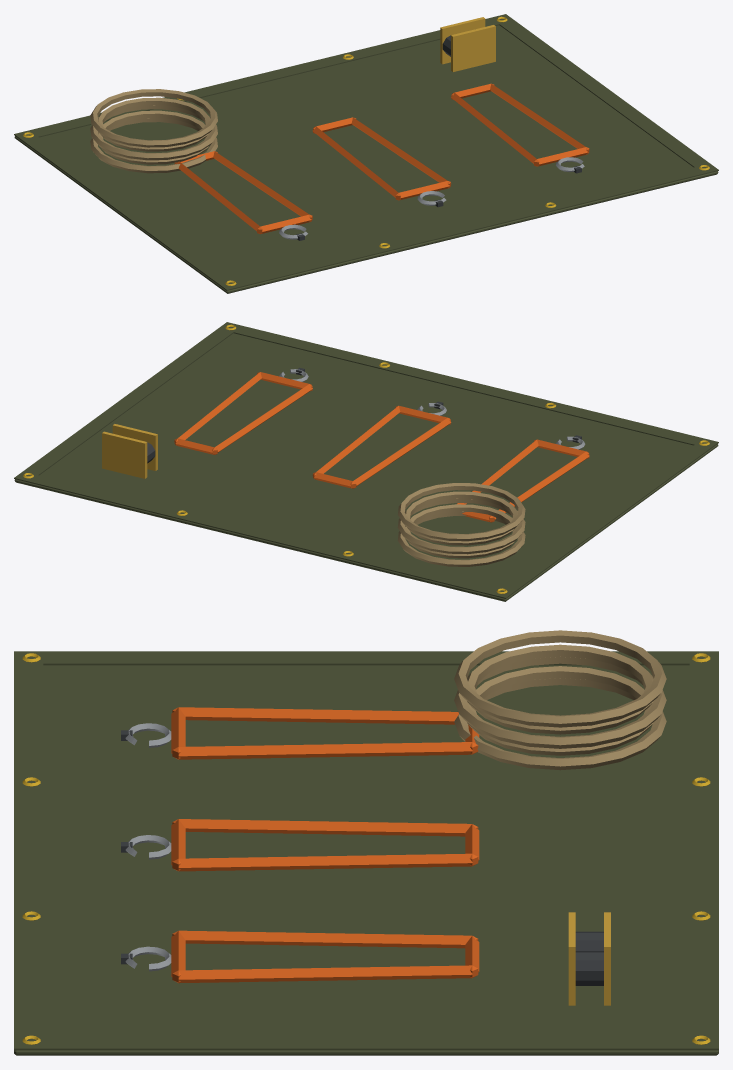
File: prop_secure_line_tarp.glb
3 renders of one model, top to bottom at view 1: azimuth 30°, elevation 25°; view 2: azimuth 150°, elevation 25°; view 3: azimuth 270°, elevation 25°, orthographic. The views are drawn at different scales.
Parts seen in each view (by area): view 1: Body; view 2: Body; view 3: Body.
Part boxes in pixels (x1,y1,x2,y2): Body: [14, 14, 718, 293]; Body: [14, 322, 718, 601]; Body: [14, 630, 718, 1055].
Bounding box in the file's own units: 1.6 × 0.122 × 1.2.
